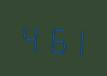four: (18, 17, 40, 55)
one: (65, 20, 87, 58)
six: (42, 19, 64, 56)
